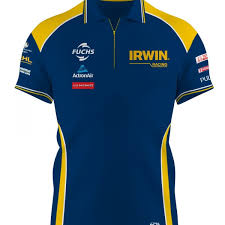S_polo shirt: (18, 1, 213, 225)
